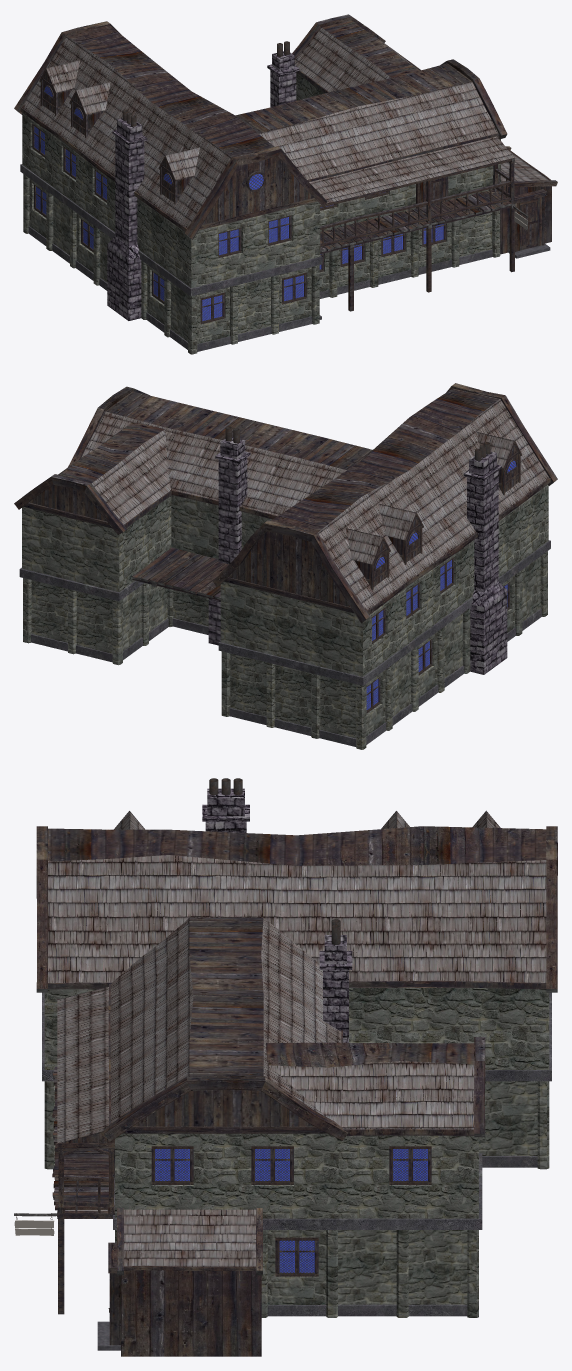
The model's file is tavern.glb.
The picture shows the model from 3 angles, top to bottom: view 1: azimuth 30°, elevation 25°; view 2: azimuth 150°, elevation 25°; view 3: azimuth 270°, elevation 25°; orthographic projection. The views are drawn at different scales.
Parts seen in each view (by area): view 1: tavern; view 2: tavern; view 3: tavern.
Part boxes in pixels (x1,y1,x2,y2): tavern: [14, 14, 557, 354]; tavern: [14, 383, 557, 749]; tavern: [14, 778, 557, 1356].
Size of the model in its own units: 17.8 by 8.32 by 13.91.
10 materials, 9 textured.
